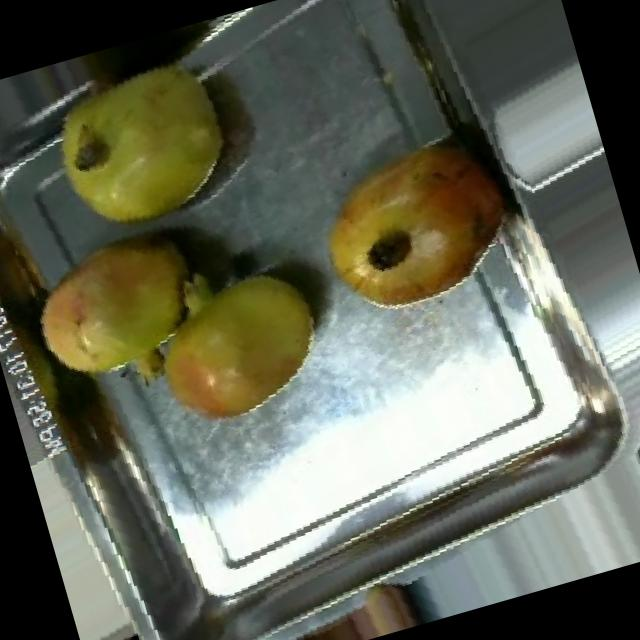fruit: (276, 99, 544, 352), (13, 20, 274, 272), (107, 232, 361, 466), (5, 200, 244, 426)
